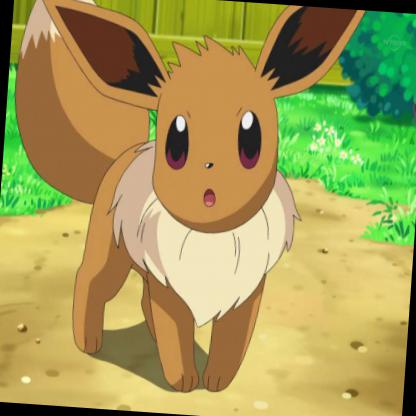Eevee: (51, 1, 362, 382)
